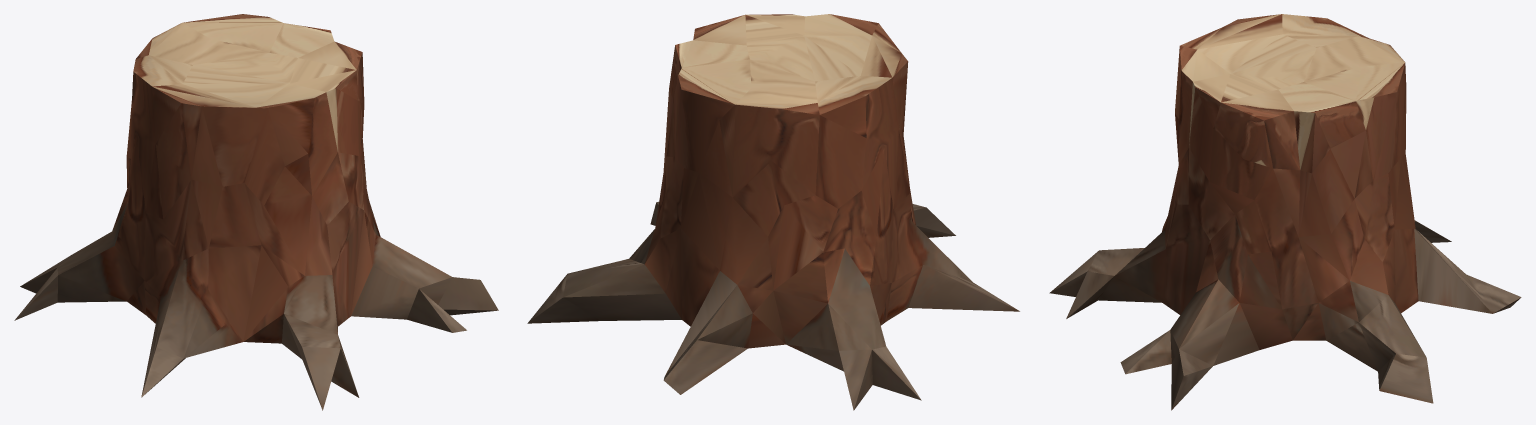
File: stump.glb
3 renders of one model, left to right at view 1: azimuth 30°, elevation 25°; view 2: azimuth 150°, elevation 25°; view 3: azimuth 270°, elevation 25°, orthographic. The views are drawn at different scales.
Visible parts, largest first — view 1: pine; view 2: pine; view 3: pine.
Part boxes in pixels (box(x1,y1,x2,y2)): pine: box(14, 14, 498, 410); pine: box(527, 14, 1019, 410); pine: box(1049, 14, 1521, 410).
Bounding box in the file's own units: 0.8795 × 0.5761 × 0.9599.
1 material, 1 textured.
